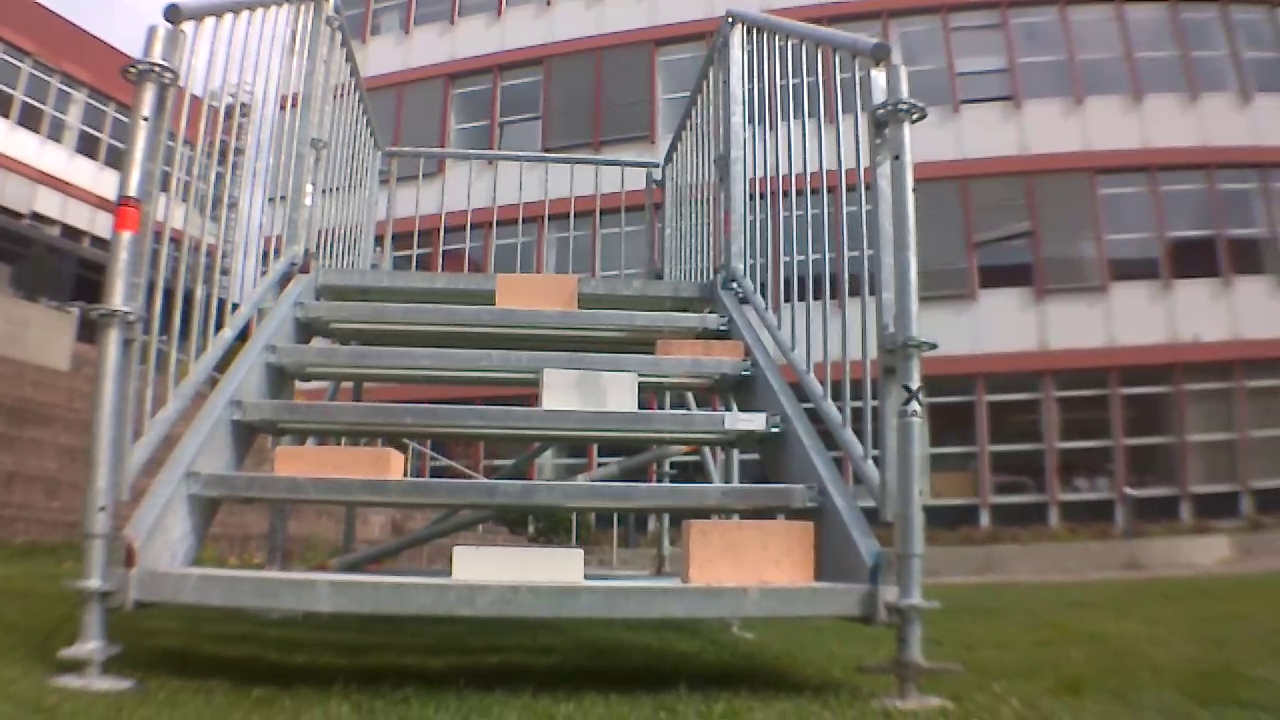brick: (675, 520, 820, 577), (451, 544, 590, 582), (272, 445, 411, 473), (542, 372, 635, 406), (491, 273, 579, 303), (650, 338, 752, 362)
edge: (148, 566, 891, 614), (181, 473, 819, 505), (268, 339, 758, 372), (293, 295, 737, 328), (231, 399, 785, 425), (314, 263, 712, 297)
stairs: (85, 2, 926, 659)
steps: (116, 280, 874, 611)
